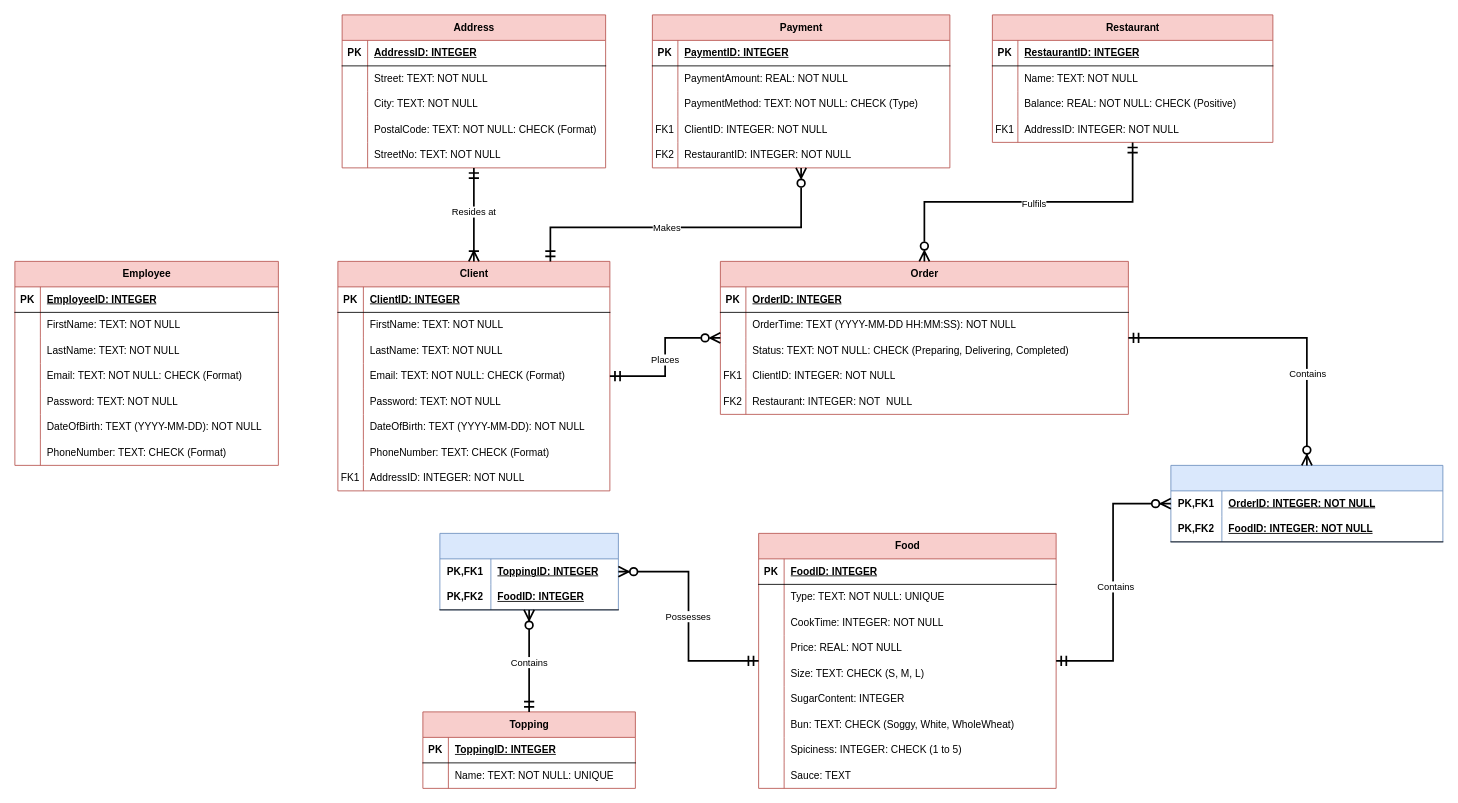
This 1458x803 diagram has some shape labels left out. Here are the shapes that lost their labels. From the top down, the box of each, then its label:
(1170, 465, 1443, 542): OrderFood
(439, 533, 618, 610): FoodTopping
